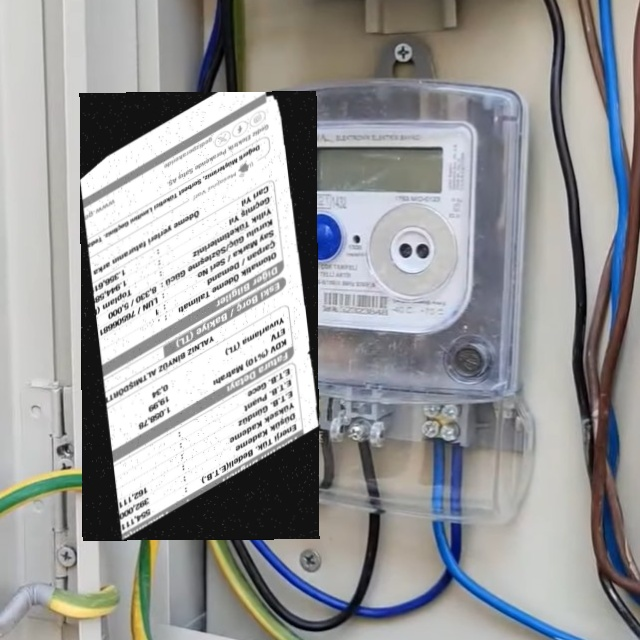electricity-bill: (78, 91, 319, 541)
